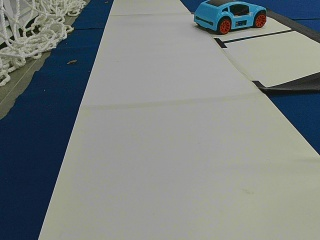car: (195, 2, 267, 34)
